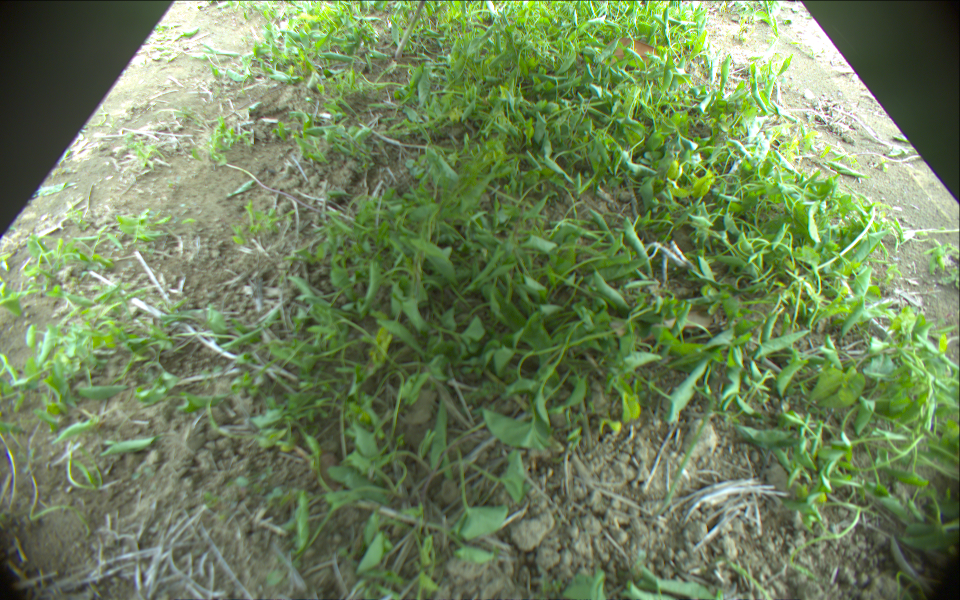aspa: (395, 1, 427, 58)
